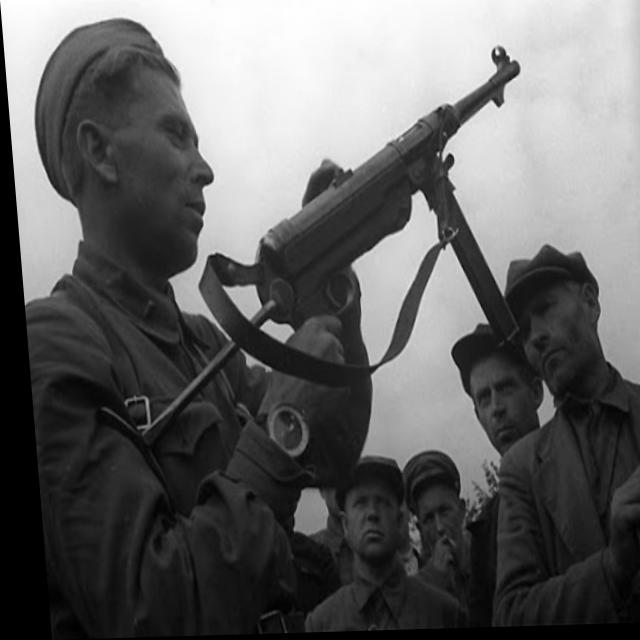other: (1, 4, 385, 640), (488, 252, 640, 624), (311, 456, 420, 628), (444, 329, 539, 448), (391, 444, 467, 560)
